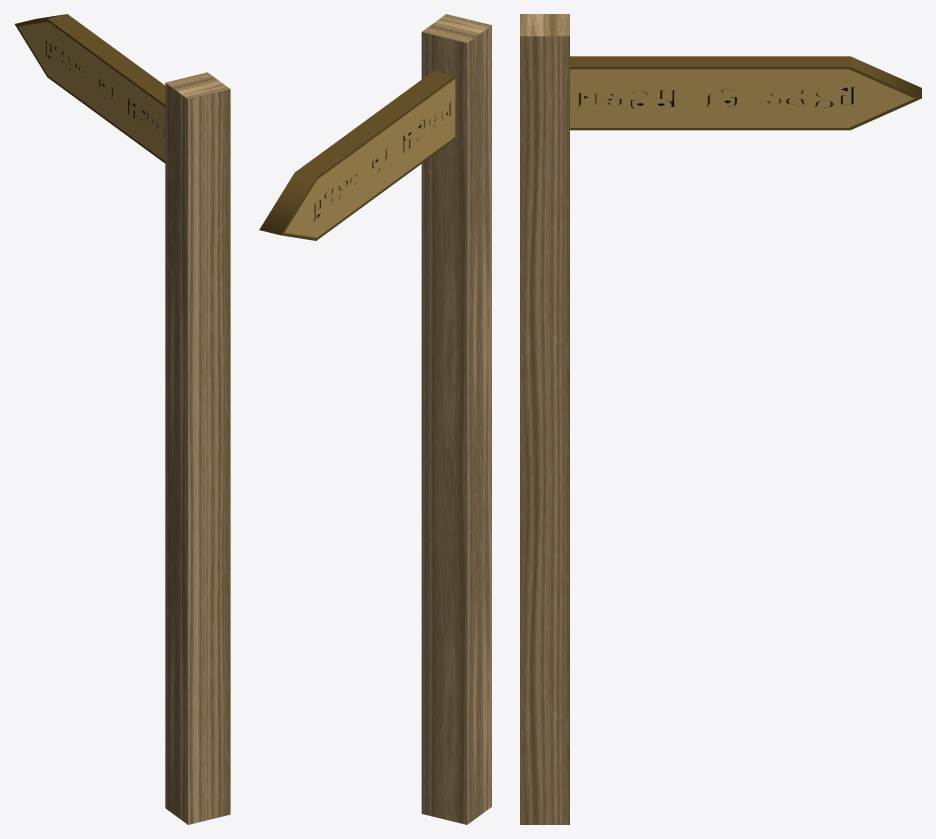
Rendered from sign.fbx.
The picture shows the model from 3 angles, left to right: view 1: azimuth 30°, elevation 25°; view 2: azimuth 150°, elevation 25°; view 3: azimuth 270°, elevation 25°; orthographic projection. The views are drawn at different scales.
Parts seen in each view (by area): view 1: pCube1, pCube2; view 2: pCube1, pCube2; view 3: pCube1, pCube2.
Part boxes in pixels (x1,y1,x2,y2): pCube1: [165, 72, 230, 824]; pCube2: [14, 14, 165, 163]; pCube1: [421, 14, 491, 824]; pCube2: [259, 71, 455, 240]; pCube1: [520, 14, 569, 824]; pCube2: [570, 56, 921, 130].
Size of the model in its own units: 0.6492 by 10.62 by 4.91.
